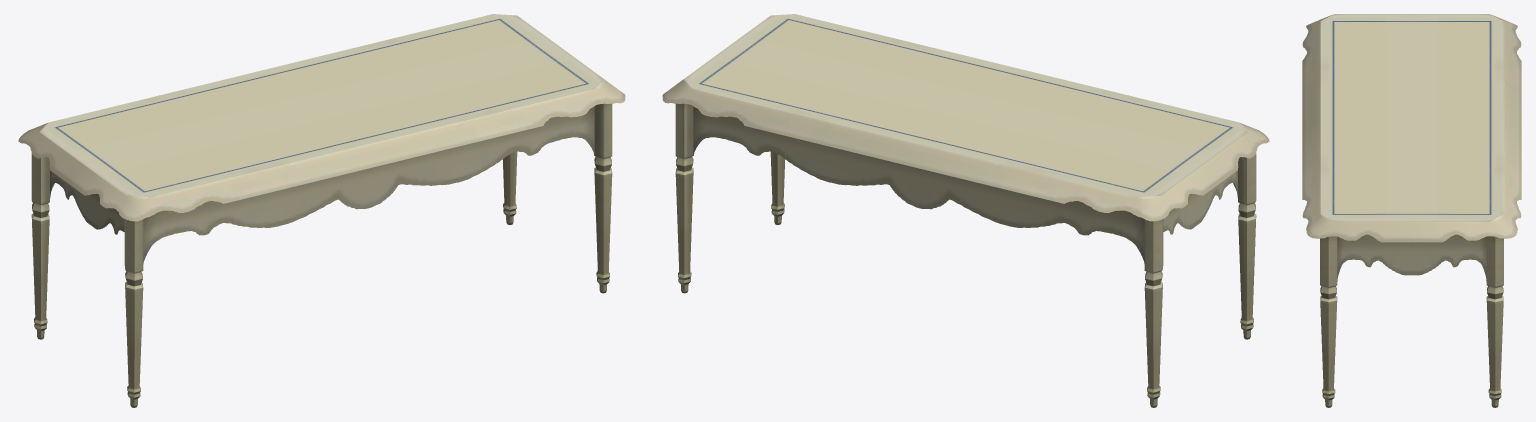
Rendered from furni_0200061_03.FBX.
3 views of the same model, side by side, from view 1: azimuth 30°, elevation 25°; view 2: azimuth 150°, elevation 25°; view 3: azimuth 270°, elevation 25° (orthographic). The views are drawn at different scales.
Parts seen in each view (by area): view 1: furni_0200061; view 2: furni_0200061; view 3: furni_0200061.
Boxes of the visible parts, x1,y1,x2,y2 form: furni_0200061: (18,14,625,407); furni_0200061: (662,14,1269,407); furni_0200061: (1302,14,1521,407).
Size of the model in its own units: 203 by 80 by 85.17.
